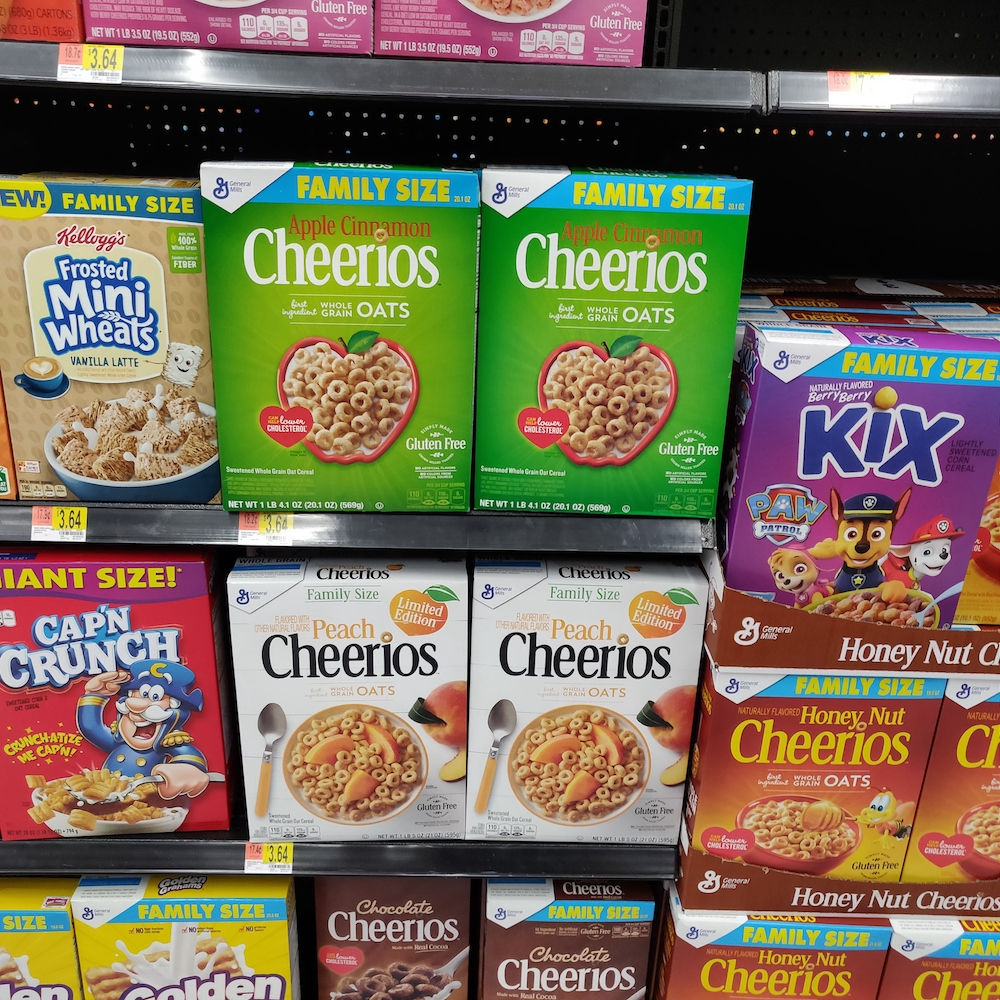Kix Berry -568919964: (755, 335, 952, 630)
